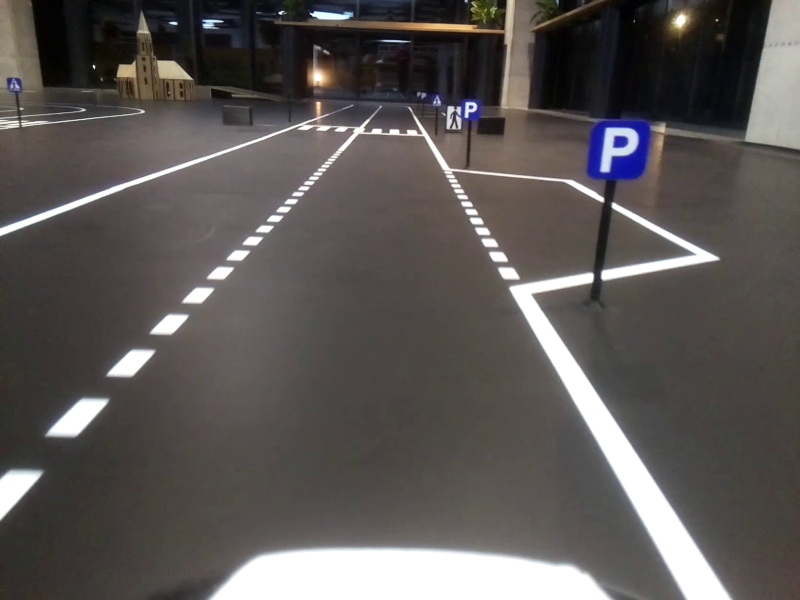park: (586, 120, 649, 182)
